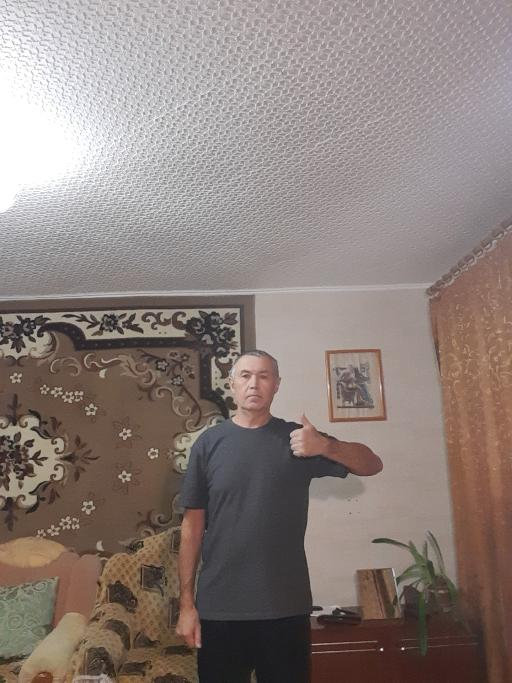like: (284, 411, 325, 460)
no_gesture: (172, 602, 208, 652)
